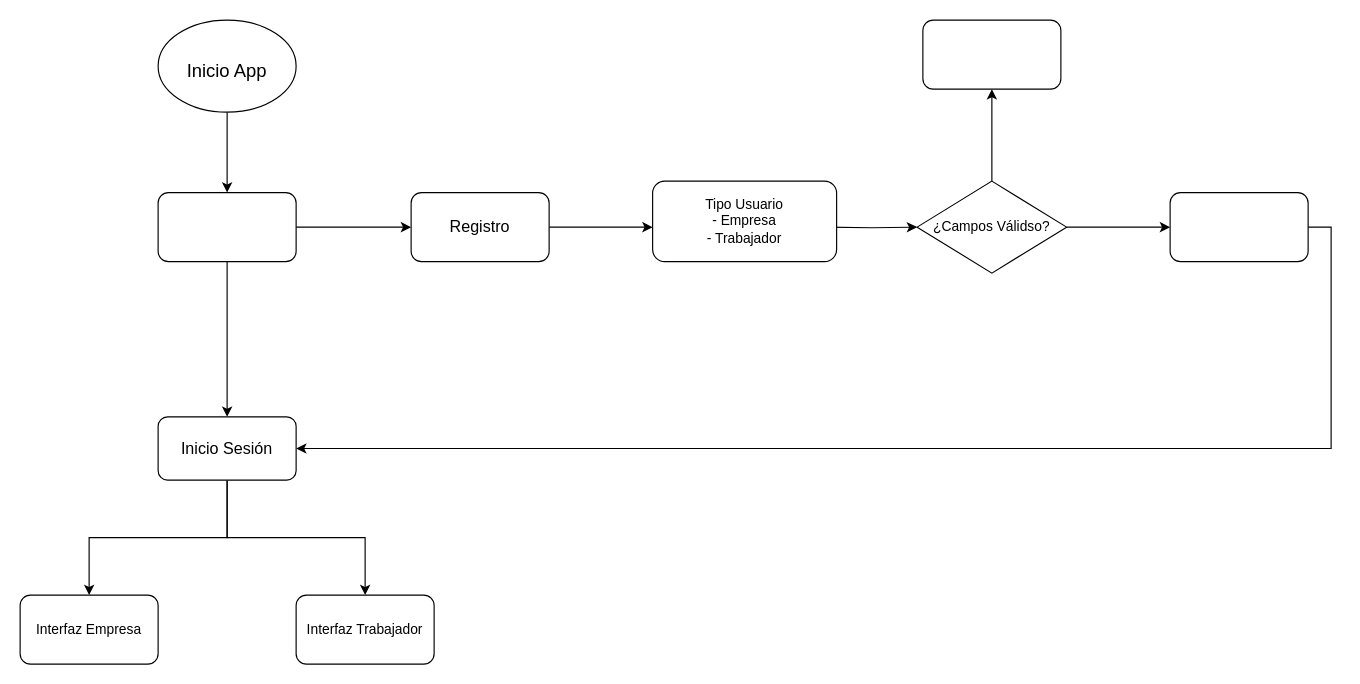
The diagram is 1360 pixels wide and 684 high, and some of its shapes have lost their labels. The centre of each missing label's shape, as x and y in pixels:
"Mostrar Error" goes at (x=991, y=54).
"Pantalla Login" goes at (x=226, y=226).
"Registro Válido" goes at (x=1238, y=226).
